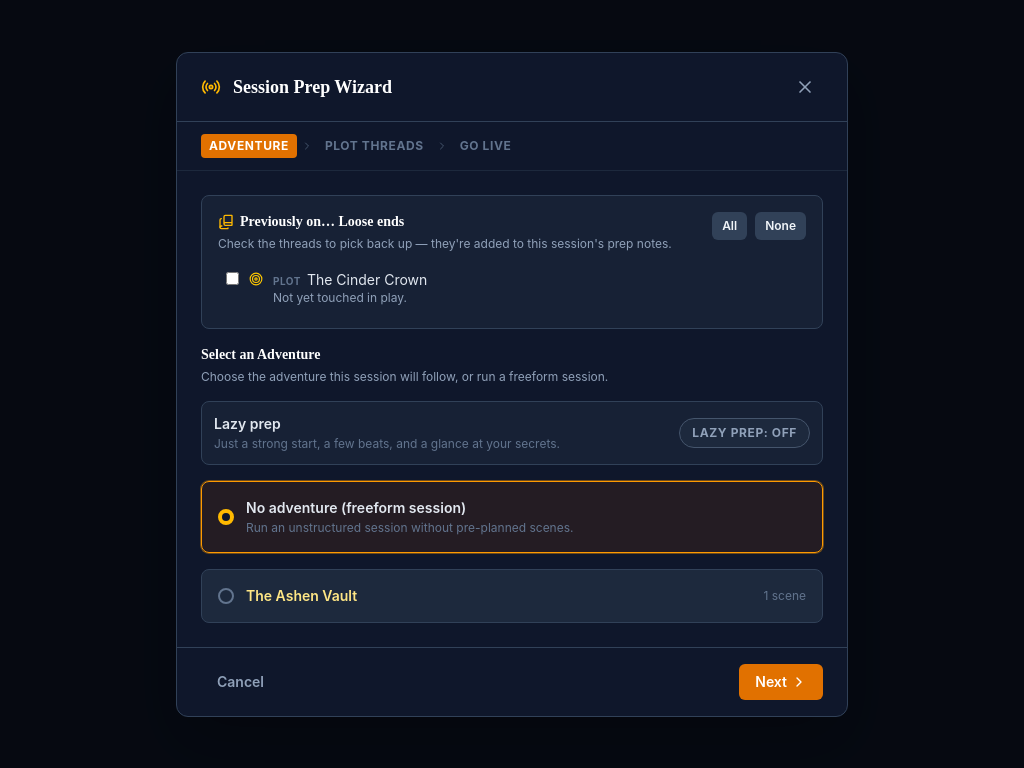
the checklist is collapsed by default › shows the toggle but none of the row text until opened
Click the button "Go Live": (486, 146) [452,134,519,158]
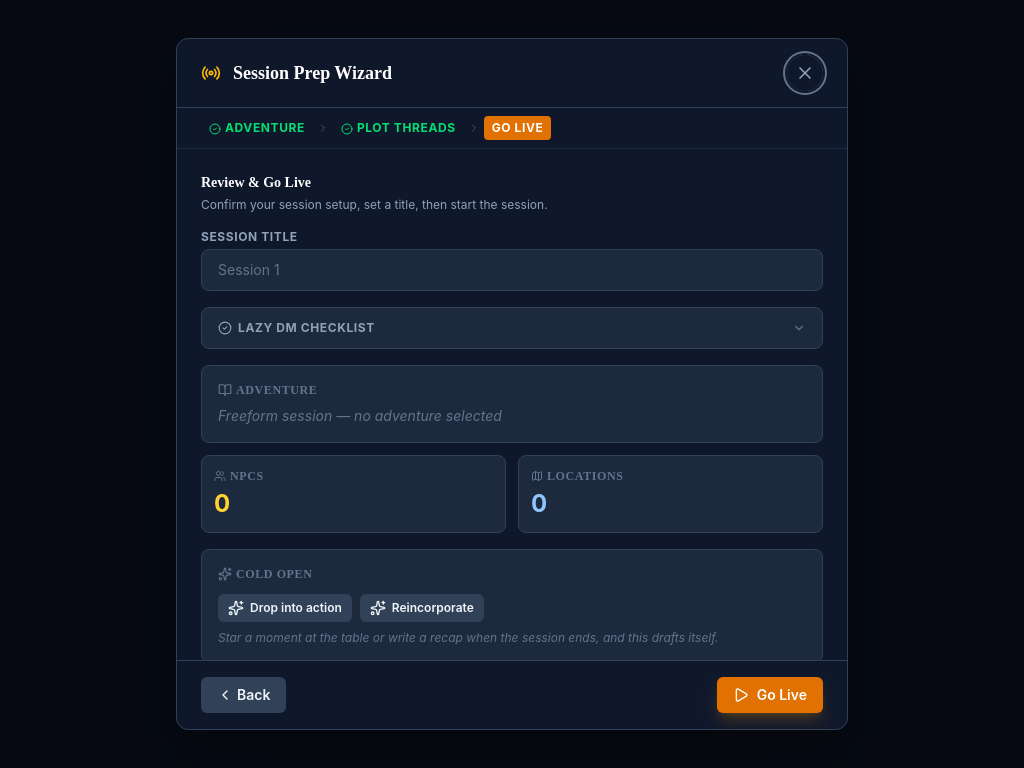
Now the text "strong start" is gone
